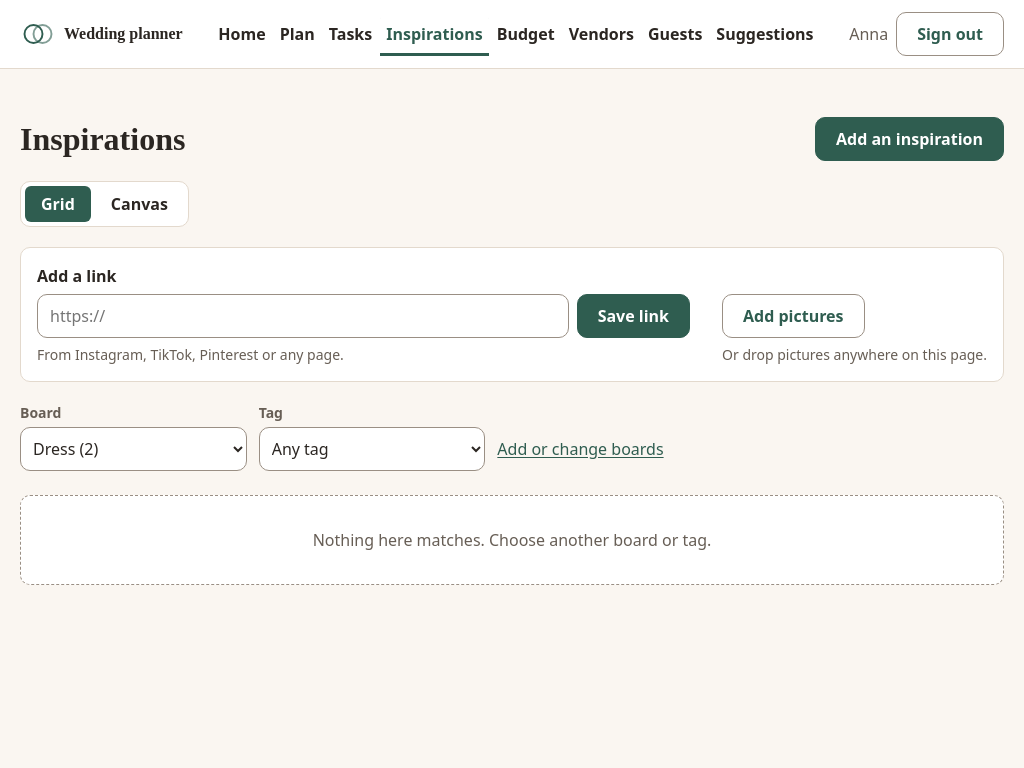
Scenario: adding from the board › saves a pasted link onto the board that is shown
Type "  https://www.tiktok.com/@x/video/1 " into the field labelled "Add a link" at (303,316), box [37,294,569,338]
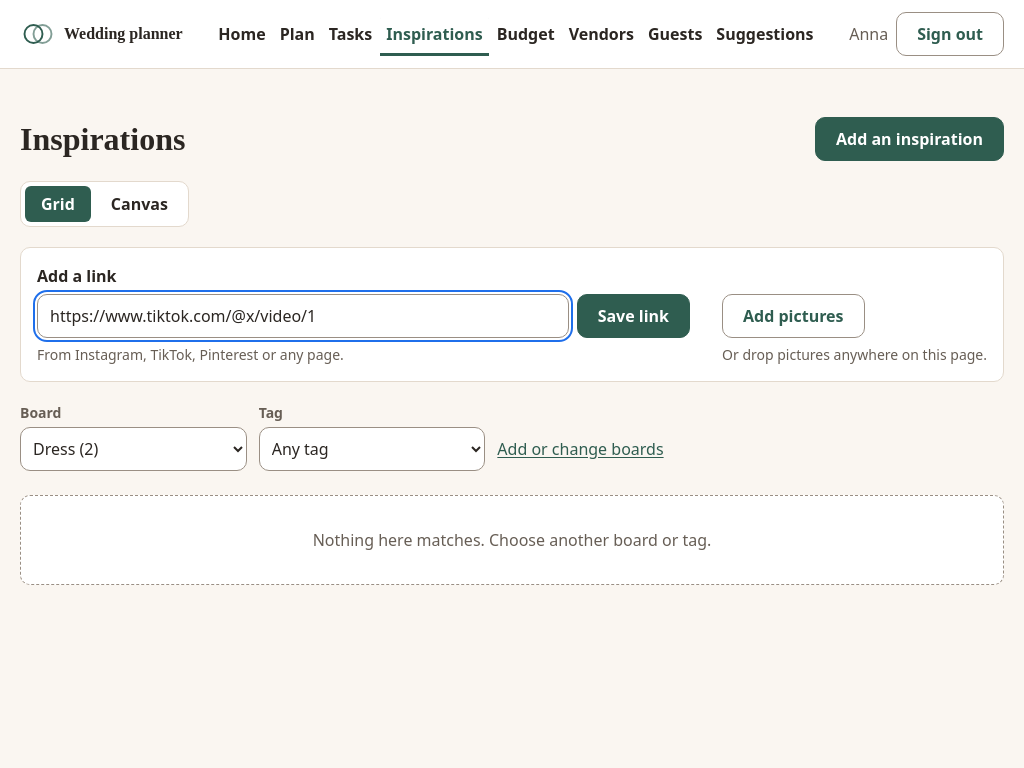
Click the button "Save link" at (633,316), box [577,294,690,338]
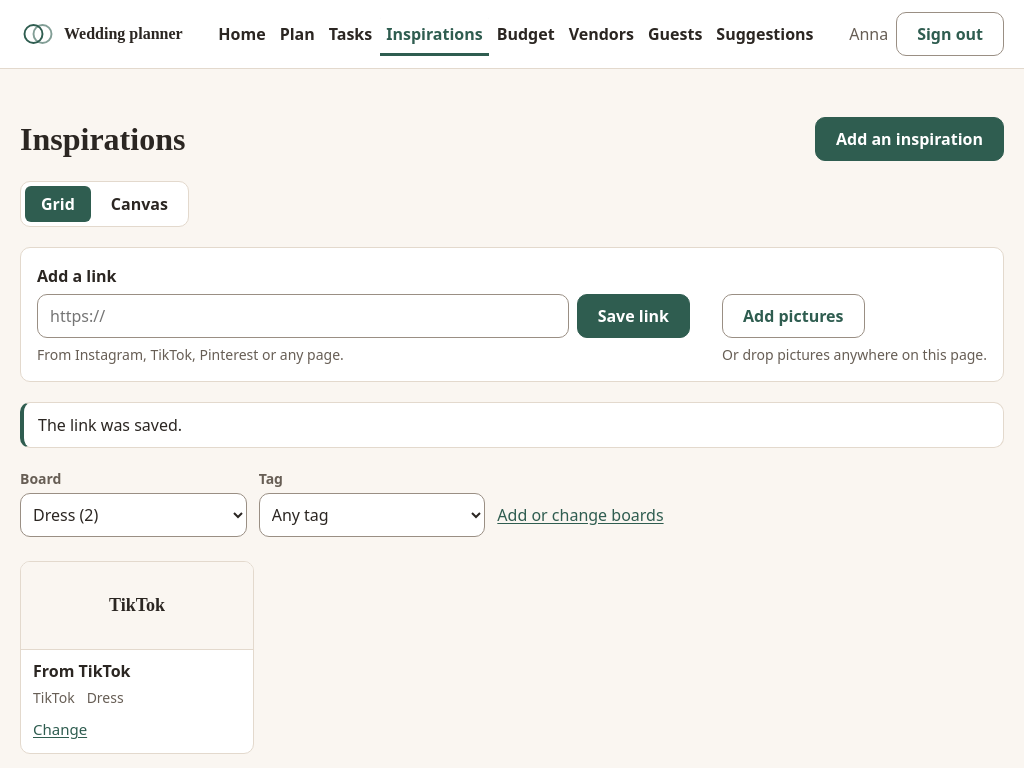
Expected: the element "From TikTok" is shown, [20,561,254,754]
Expected: the message reads "The link was saved.", [38,414,182,436]
Expected: the field labelled "Add a link" is empty, [37,294,569,338]
